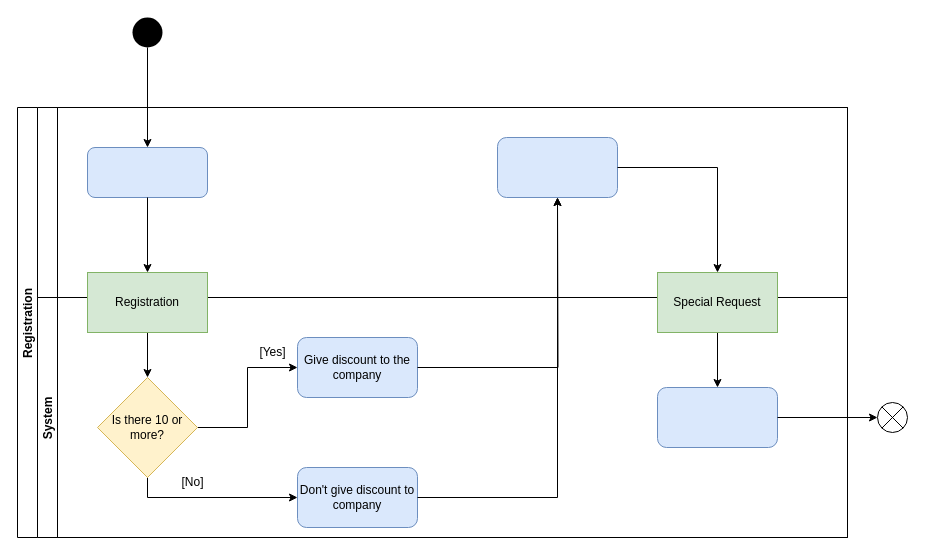
The diagram is 925 pixels wide and 555 high, and some of its shapes have lost their labels. The box of each missing label's shape, as (x1, y1, x2, y2) in pixels:
Administrative assistant: (36, 106, 848, 298)
grab any special requests: (496, 136, 618, 198)
Register participants for classes: (86, 146, 208, 198)
Store data for future reference: (656, 386, 778, 448)
